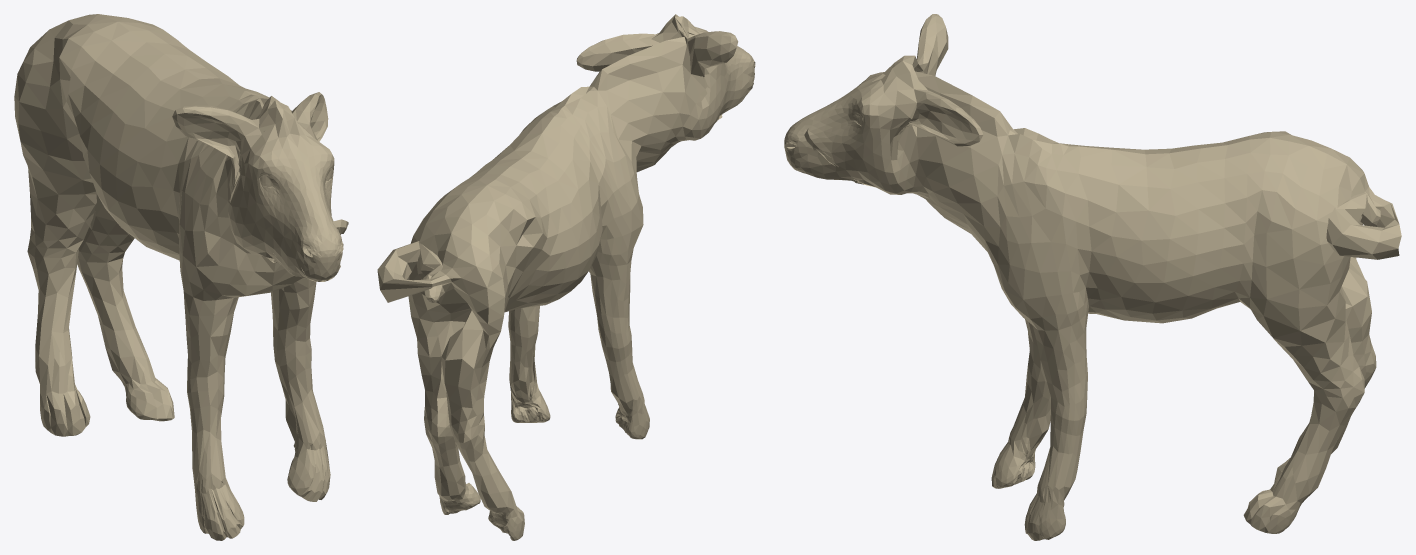
The picture shows the model from 3 angles, left to right: view 1: azimuth 30°, elevation 25°; view 2: azimuth 150°, elevation 25°; view 3: azimuth 270°, elevation 25°; orthographic projection. The views are drawn at different scales.
Parts seen in each view (by area): view 1: world; view 2: world; view 3: world.
Boxes of the visible parts, box(x1,y1,x2,y2) form: world: box(14, 14, 348, 540); world: box(377, 14, 755, 540); world: box(784, 14, 1401, 540).
Size of the model in its own units: 0.6545 by 1.4 by 1.75.
